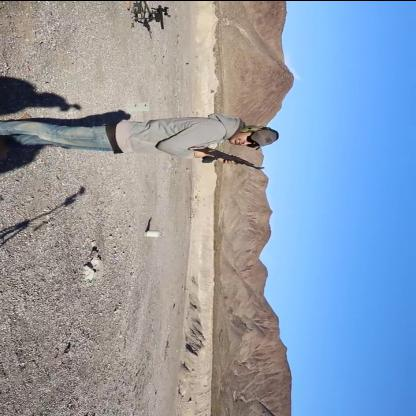long weapon: (190, 142, 276, 180), (134, 2, 184, 34)
